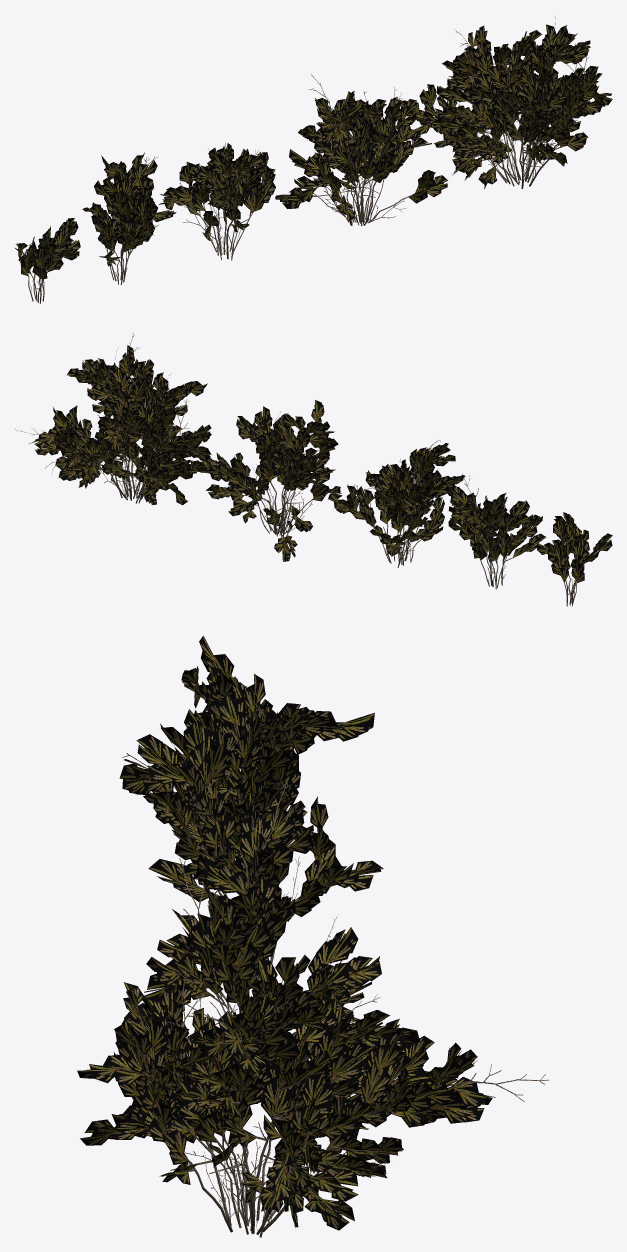
Rendered from wild_rooibos_bush_1k.gltf.
3 views of the same model, one above another, from view 1: azimuth 30°, elevation 25°; view 2: azimuth 150°, elevation 25°; view 3: azimuth 270°, elevation 25° (orthographic). The views are drawn at different scales.
Visible parts, largest first — view 1: wild_rooibos_bush_a, wild_rooibos_bush_b, wild_rooibos_bush_c, wild_rooibos_bush_d, wild_rooibos_bush_e; view 2: wild_rooibos_bush_a, wild_rooibos_bush_b, wild_rooibos_bush_c, wild_rooibos_bush_d, wild_rooibos_bush_e; view 3: wild_rooibos_bush_a, wild_rooibos_bush_b, wild_rooibos_bush_c, wild_rooibos_bush_d, wild_rooibos_bush_e.
Part boxes in pixels (<box>): wild_rooibos_bush_a: <box>397,16,612,189</box>; wild_rooibos_bush_b: <box>275,74,447,226</box>; wild_rooibos_bush_c: <box>158,143,275,260</box>; wild_rooibos_bush_d: <box>82,152,176,284</box>; wild_rooibos_bush_e: <box>14,218,80,303</box>; wild_rooibos_bush_a: <box>15,333,218,505</box>; wild_rooibos_bush_b: <box>201,400,342,561</box>; wild_rooibos_bush_c: <box>328,440,465,567</box>; wild_rooibos_bush_d: <box>445,473,546,589</box>; wild_rooibos_bush_e: <box>537,512,612,606</box>; wild_rooibos_bush_a: <box>77,958,549,1237</box>; wild_rooibos_bush_b: <box>138,779,381,1038</box>; wild_rooibos_bush_c: <box>119,718,383,963</box>; wild_rooibos_bush_d: <box>160,674,374,810</box>; wild_rooibos_bush_e: <box>181,635,272,755</box>.
Size of the model in its own units: 2.28 by 0.5413 by 0.8434.
Materials: 3 (3 with a texture image).
